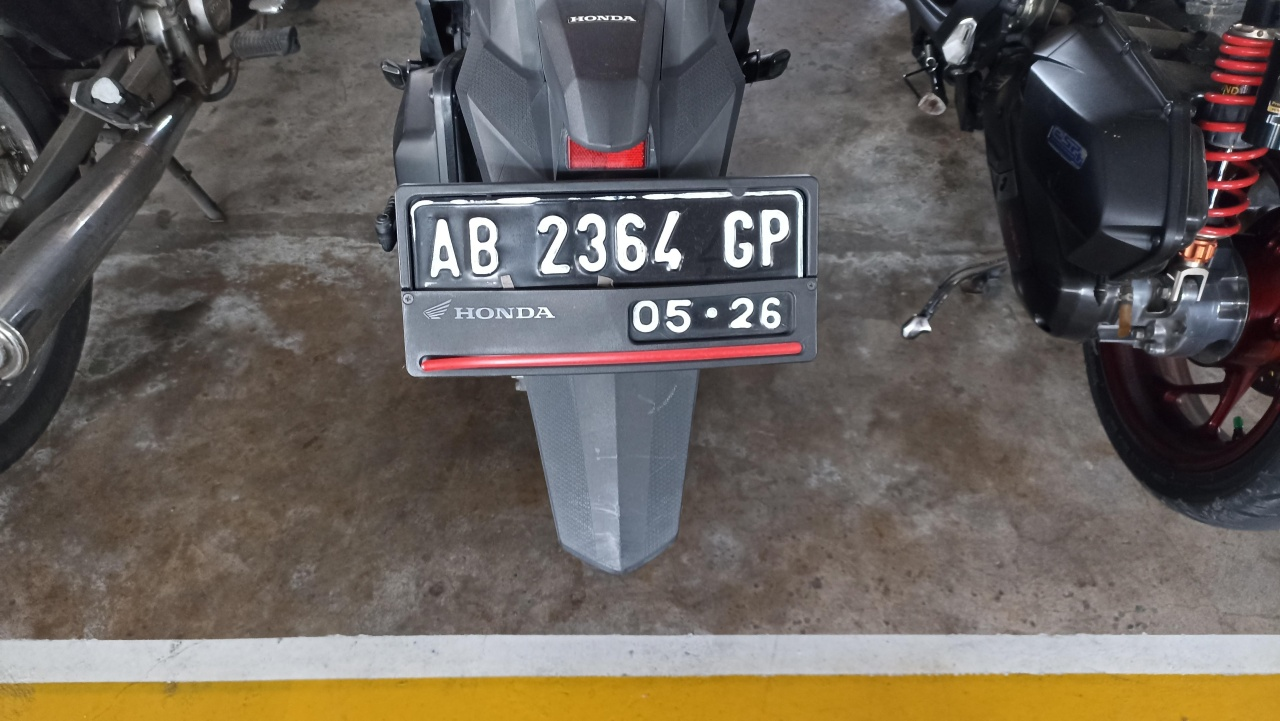plate: (404, 181, 812, 377)
